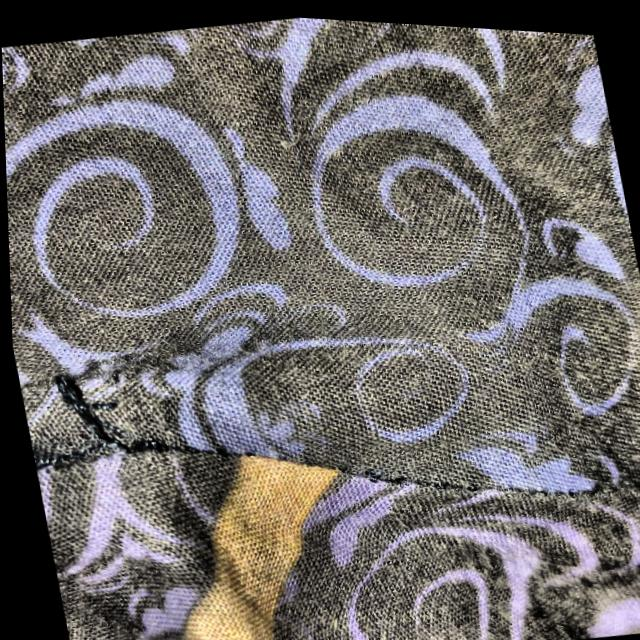Stitch: (30, 346, 191, 487)
